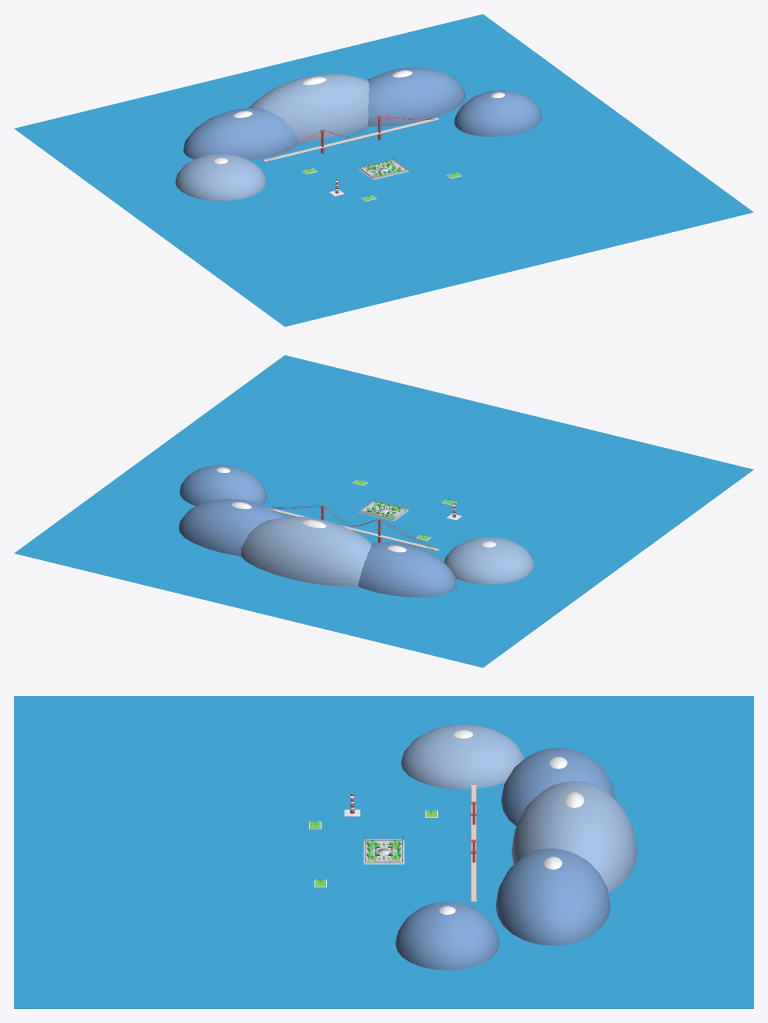
Rendered from parque.glb.
The picture shows the model from 3 angles, top to bottom: view 1: azimuth 30°, elevation 25°; view 2: azimuth 150°, elevation 25°; view 3: azimuth 270°, elevation 25°; orthographic projection. The views are drawn at different scales.
Parts seen in each view (by area): view 1: ParkVisual; view 2: ParkVisual; view 3: ParkVisual.
Part boxes in pixels (x1,y1,x2,y2): ParkVisual: (14, 14, 753, 326); ParkVisual: (14, 355, 753, 667); ParkVisual: (14, 696, 753, 1008).
Size of the model in its own units: 1400 by 246 by 1400.
